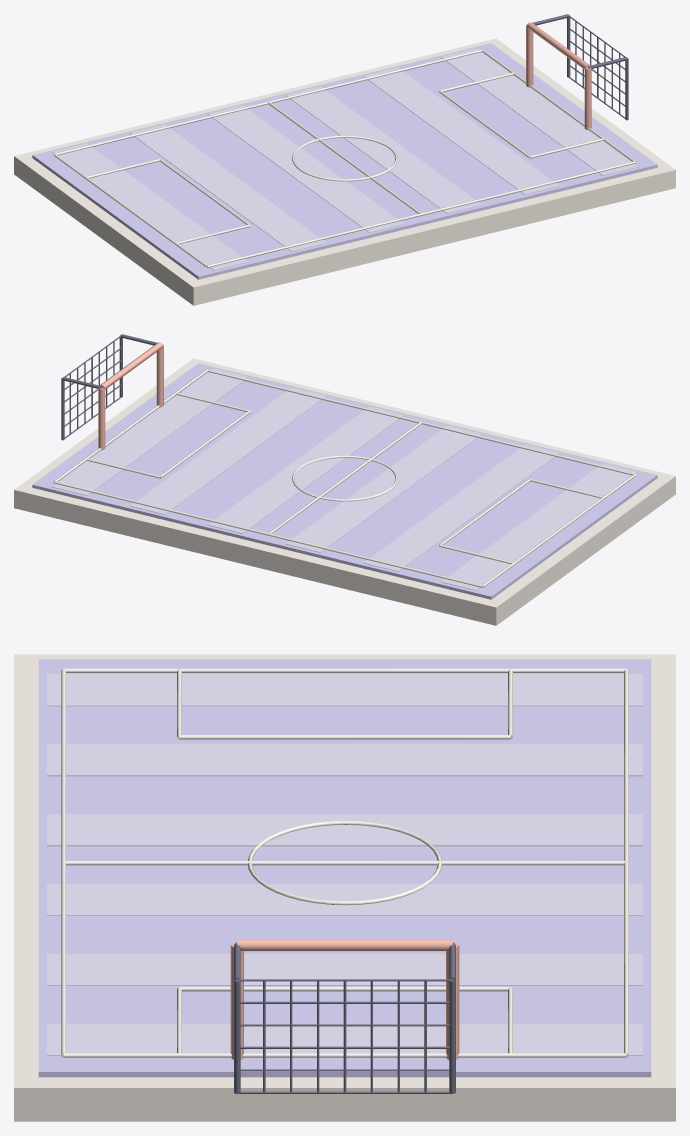
File: pitch.glb
3 renders of one model, top to bottom at view 1: azimuth 30°, elevation 25°; view 2: azimuth 150°, elevation 25°; view 3: azimuth 270°, elevation 25°, orthographic. The views are drawn at different scales.
Visible parts, largest first — view 1: Turf, Table edge, Mown stripe 1, Mown stripe 4, Mown stripe 2, Mown stripe 3, Mown stripe 5, Mown stripe 0, Touchline 0.34, Touchline -0.34, Centre circle, Pitch line -0.55 (+5 smaller); view 2: Turf, Table edge, Mown stripe 1, Mown stripe 4, Mown stripe 2, Mown stripe 3, Mown stripe 5, Mown stripe 0, Touchline -0.34, Touchline 0.34, Centre circle, Pitch line -0.55 (+5 smaller); view 3: Turf, Table edge, Mown stripe 1, Mown stripe 0, Mown stripe 2, Mown stripe 3, Mown stripe 4, Mown stripe 5, Pitch line -0.55, Pitch line 0, Crossbar, Pitch line 0.55 (+9 smaller).
Boxes of the visible parts, left/top/right/bottom form: Turf: left=32, top=43, right=657, bottom=279; Table edge: left=14, top=38, right=675, bottom=305; Mown stripe 1: left=130, top=124, right=326, bottom=251; Mown stripe 4: left=363, top=67, right=559, bottom=194; Mown stripe 2: left=207, top=105, right=403, bottom=232; Mown stripe 3: left=285, top=86, right=481, bottom=213; Mown stripe 5: left=441, top=48, right=637, bottom=175; Mown stripe 0: left=52, top=143, right=248, bottom=270; Touchline 0.34: left=207, top=161, right=635, bottom=267; Touchline -0.34: left=54, top=49, right=482, bottom=155; Centre circle: left=292, top=135, right=397, bottom=181; Pitch line -0.55: left=53, top=154, right=207, bottom=267; Turf: left=32, top=363, right=657, bottom=599; Table edge: left=14, top=358, right=675, bottom=625; Mown stripe 1: left=363, top=444, right=559, bottom=571; Mown stripe 4: left=130, top=387, right=326, bottom=514; Mown stripe 2: left=286, top=425, right=482, bottom=552; Mown stripe 3: left=208, top=406, right=404, bottom=533; Mown stripe 5: left=52, top=368, right=248, bottom=495; Mown stripe 0: left=441, top=463, right=637, bottom=590; Touchline -0.34: left=54, top=481, right=482, bottom=587; Touchline 0.34: left=207, top=369, right=635, bottom=475; Centre circle: left=292, top=455, right=397, bottom=501; Pitch line -0.55: left=482, top=474, right=636, bottom=587; Turf: left=38, top=659, right=651, bottom=1077; Table edge: left=14, top=654, right=675, bottom=1121; Mown stripe 1: left=47, top=744, right=642, bottom=776; Mown stripe 0: left=47, top=674, right=642, bottom=706; Mown stripe 2: left=47, top=814, right=642, bottom=846; Mown stripe 3: left=47, top=884, right=642, bottom=915; Mown stripe 4: left=47, top=954, right=642, bottom=985; Mown stripe 5: left=47, top=1023, right=642, bottom=1055; Pitch line -0.55: left=64, top=668, right=625, bottom=672; Pitch line 0: left=63, top=861, right=626, bottom=865; Crossbar: left=237, top=939, right=452, bottom=951; Pitch line 0.55: left=63, top=1053, right=626, bottom=1057.
Size of the model in its own units: 1.27 by 0.2105 by 0.8.
